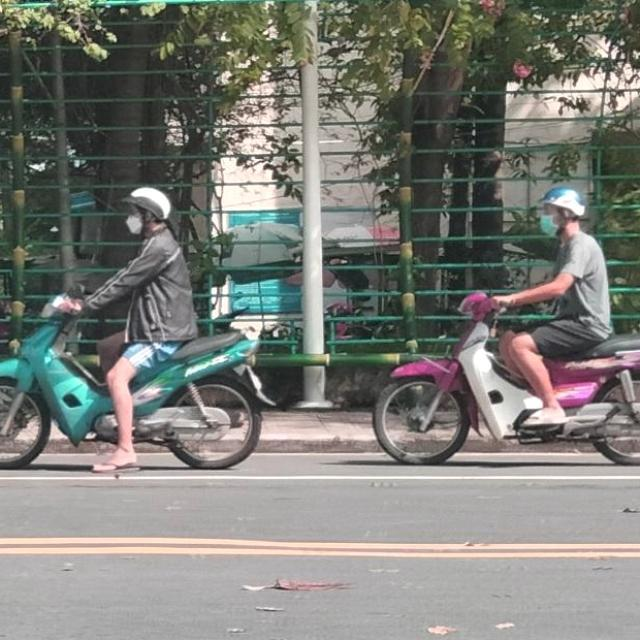Helmet: (532, 185, 591, 242), (120, 186, 172, 236)
